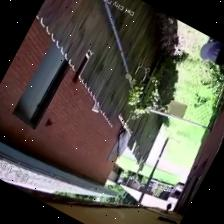person: (199, 37, 223, 65)
